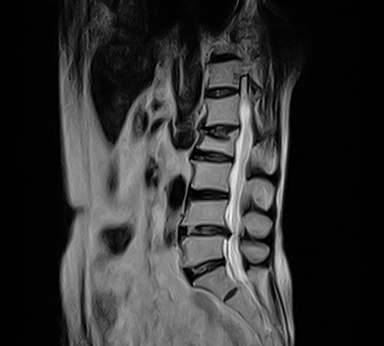L1,v2: (202, 97, 243, 120)
L1-L2,v5: (199, 120, 240, 143)
L2,v2: (198, 133, 239, 156)
L2-L3,v1: (194, 146, 235, 169)
L3,v2: (191, 165, 232, 188)
L3-L4,v1: (188, 184, 229, 207)
L4,v2: (186, 202, 227, 225)
L4-L5,v3: (187, 217, 228, 240)
L5,v2: (182, 237, 223, 260)
L5-S1,v2: (186, 257, 227, 280)
T12-L1,v1: (202, 81, 243, 104)
